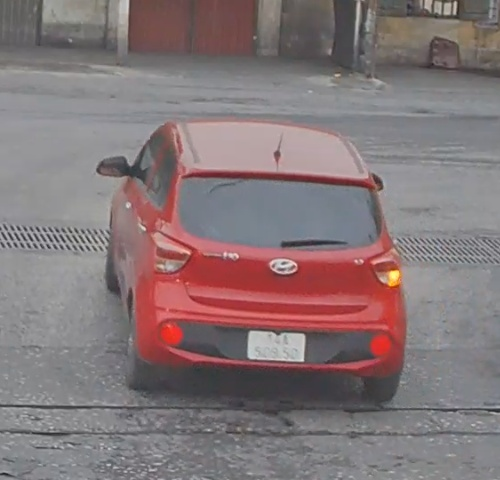vehicle plate: (246, 322, 307, 365)
